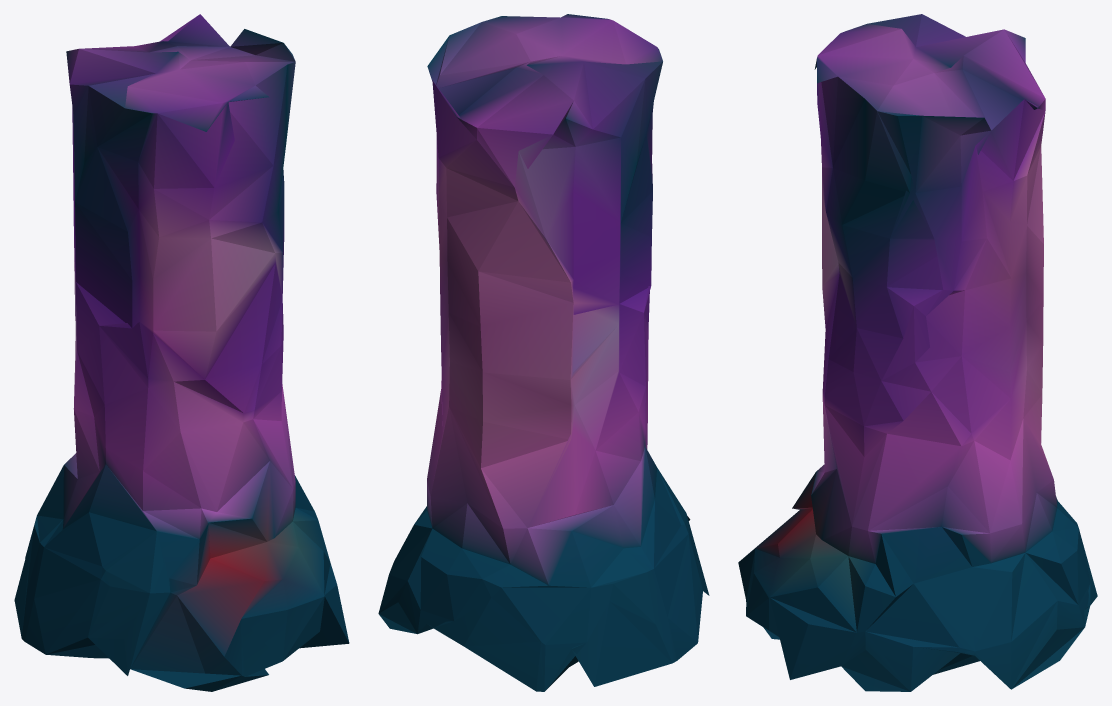
3 views of the same model, side by side, from view 1: azimuth 30°, elevation 25°; view 2: azimuth 150°, elevation 25°; view 3: azimuth 270°, elevation 25° (orthographic).
Bounding box in the file's own units: 1.15 × 2.2 × 1.25.
